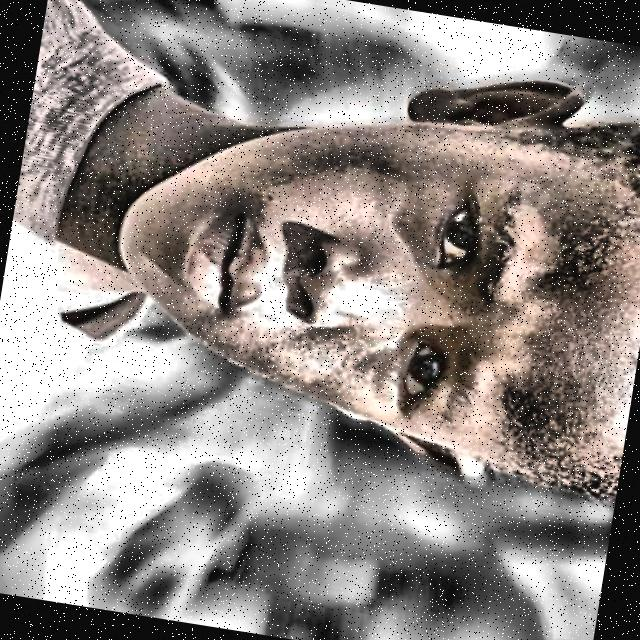sad: (90, 3, 640, 514)
